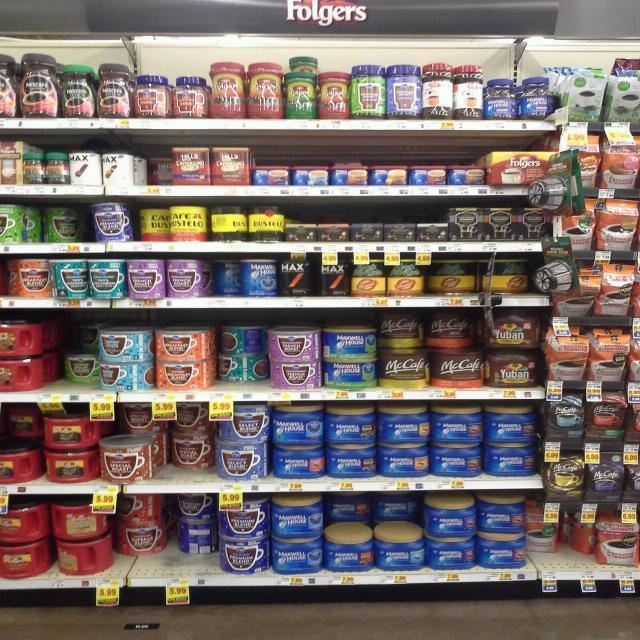Imprecise: (379, 314, 491, 384), (327, 492, 417, 576), (528, 495, 608, 575), (163, 488, 222, 583), (109, 498, 169, 578), (100, 404, 160, 479), (40, 323, 98, 398), (208, 326, 272, 390), (166, 404, 218, 482), (0, 406, 39, 490), (36, 199, 100, 249), (124, 202, 174, 244), (137, 146, 176, 190), (207, 254, 244, 298)
